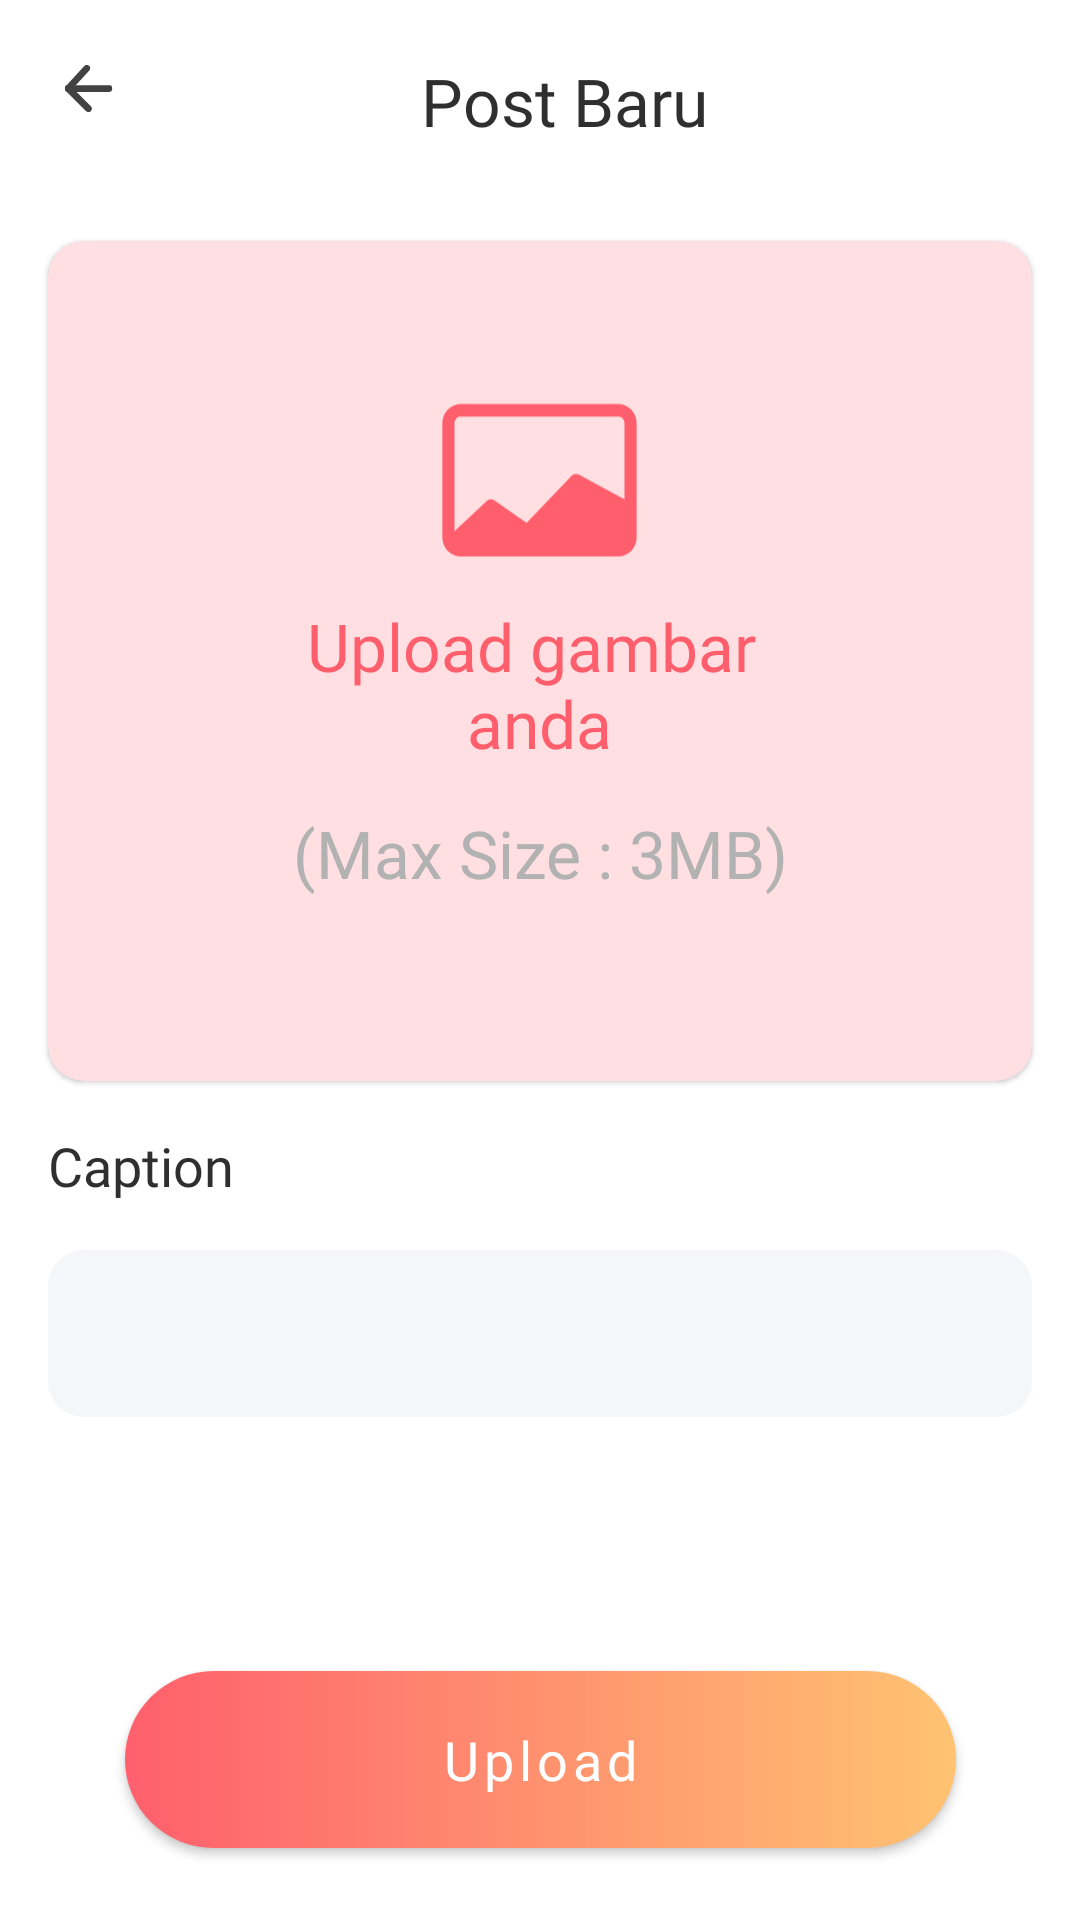

Named icons in this screenshot (1080x1920) and their bounding boxes, (x1, y1, x2, y2):
Icon of back button: (65, 65, 113, 112)
